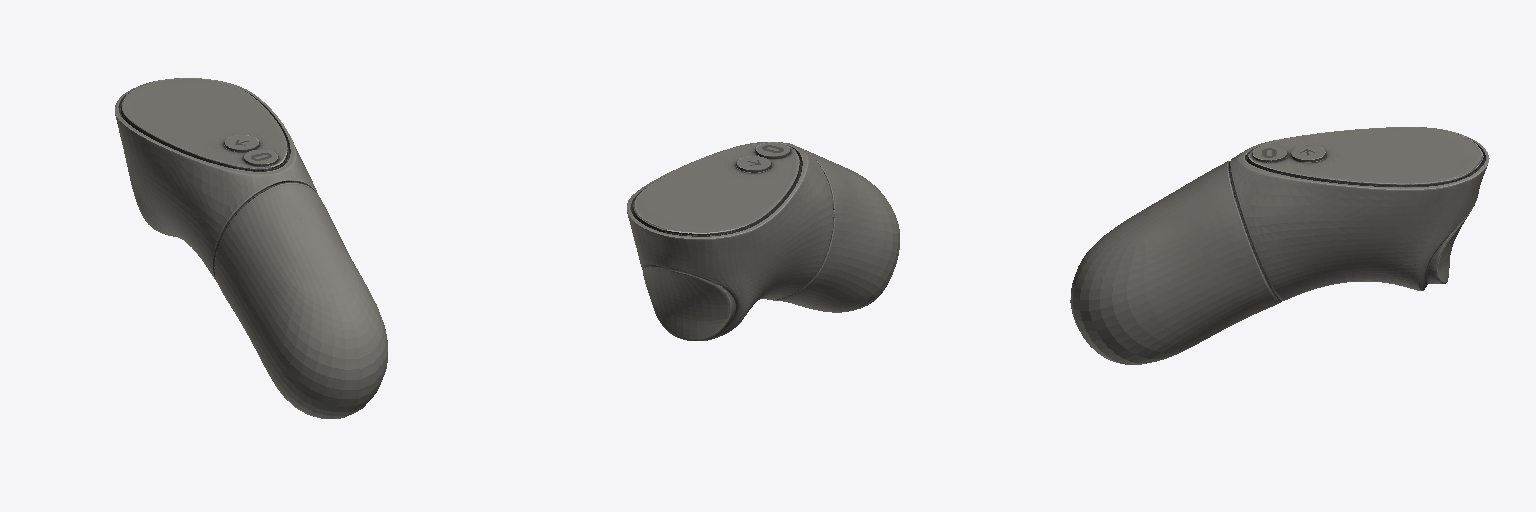
3 renders of one model, left to right at view 1: azimuth 30°, elevation 25°; view 2: azimuth 150°, elevation 25°; view 3: azimuth 270°, elevation 25°, orthographic.
Parts seen in each view (by area): view 1: vr_controller_oculusgo; view 2: vr_controller_oculusgo; view 3: vr_controller_oculusgo.
Part boxes in pixels (x1,y1,x2,y2): vr_controller_oculusgo: (115, 78, 387, 418); vr_controller_oculusgo: (627, 142, 899, 340); vr_controller_oculusgo: (1070, 127, 1489, 364).
Bounding box in the file's own units: 0.0668 × 0.1024 × 0.1878.
1 materials, 1 textured.